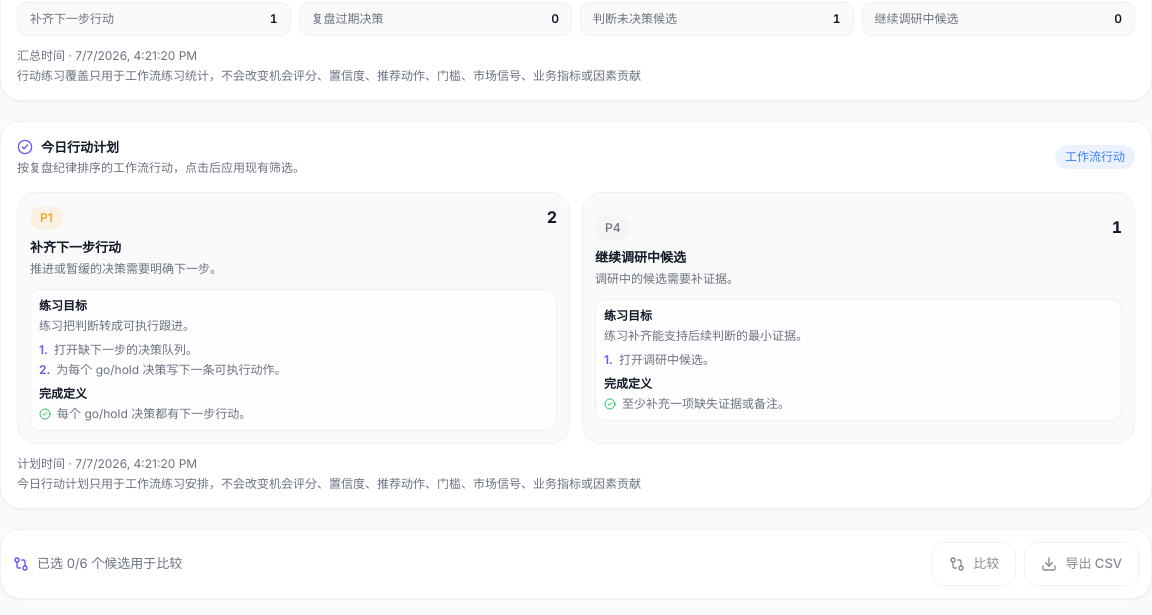
Test: Opportunities page › prefills action outcome type from a selected daily action context
This screenshot has width=1152, height=615.
(page scrolled)
Click the button with aria-label "应用行动：补齐下一步行动". click: (294, 318)
box: [17,192,570,444]
(page scrolled)
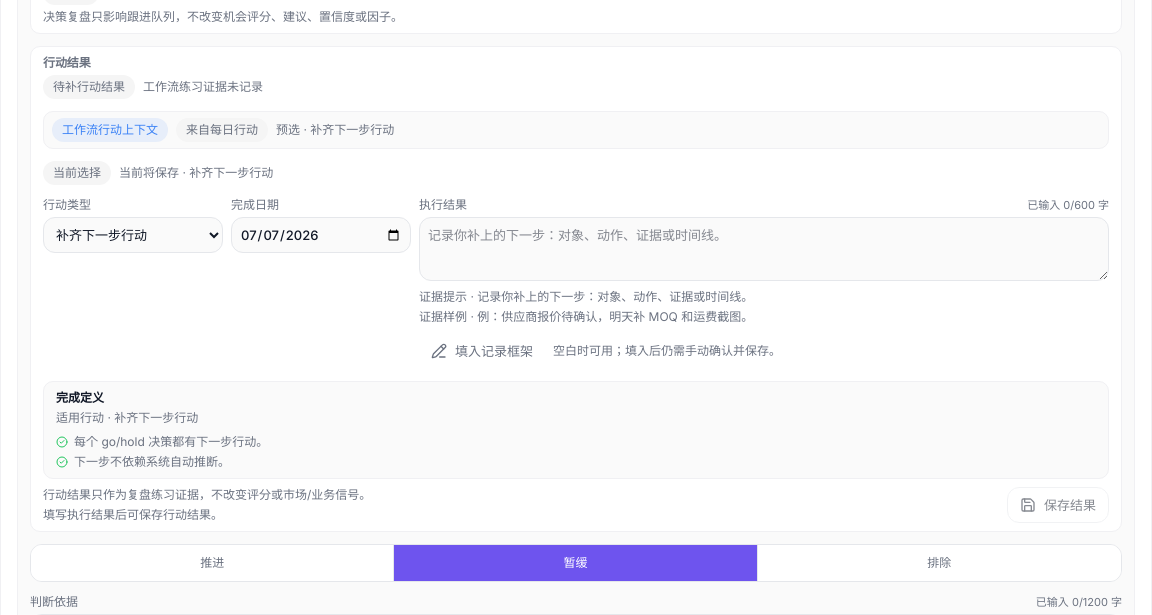
Check: the text "工作流行动上下文" is shown, box [52,118,168,142]
Check: the text "来自每日行动" is shown, box [176,118,268,142]
Check: the message named "工作流行动上下文：来自每日行动，预选 补齐下一步行动" is shown, box [43,111,1109,149]
